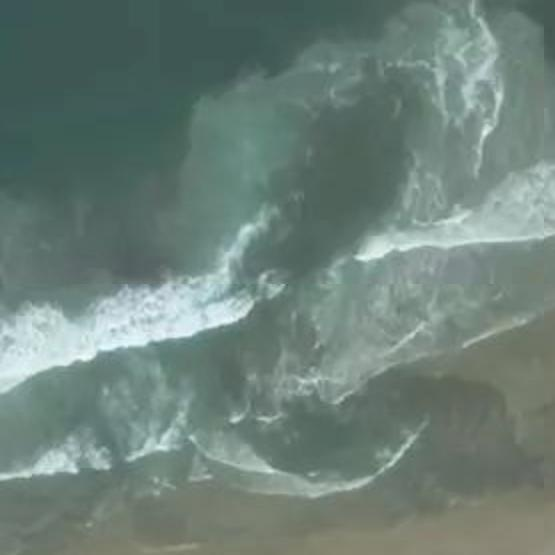rip_current: (183, 72, 439, 451)
